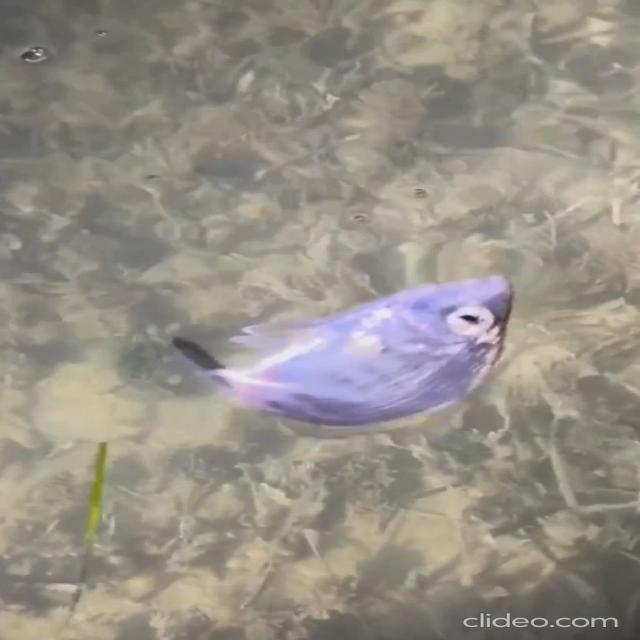fish: (170, 270, 532, 430)
